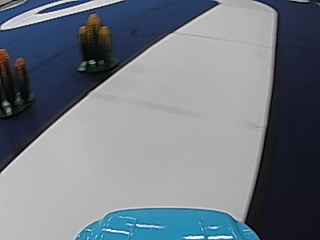corn: (76, 11, 114, 75), (1, 50, 34, 118)
